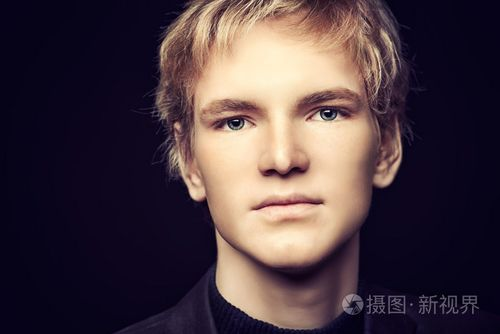no_mask: (191, 33, 382, 270)
